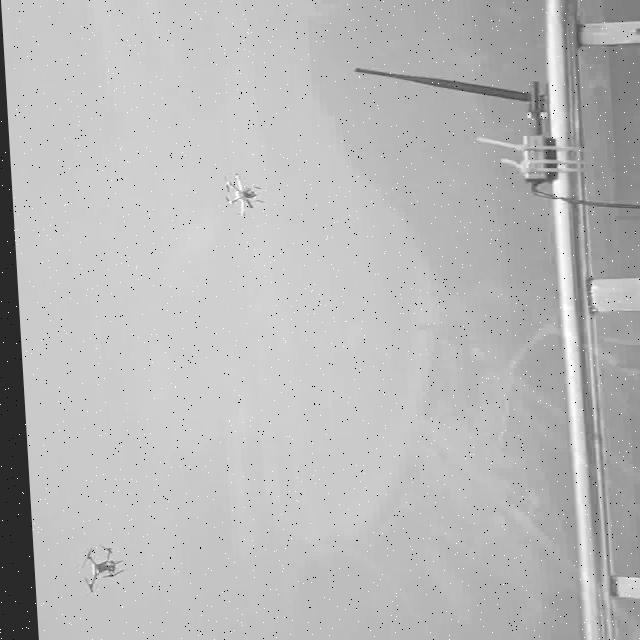drone: (68, 544, 121, 592)
